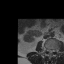CCS_normal: (50, 47, 51, 55)
LFS_normal: (53, 48, 55, 53)
LLS_normal: (51, 48, 53, 54)
RFS_normal: (46, 47, 48, 53)
RLS_normal: (48, 47, 50, 53)
